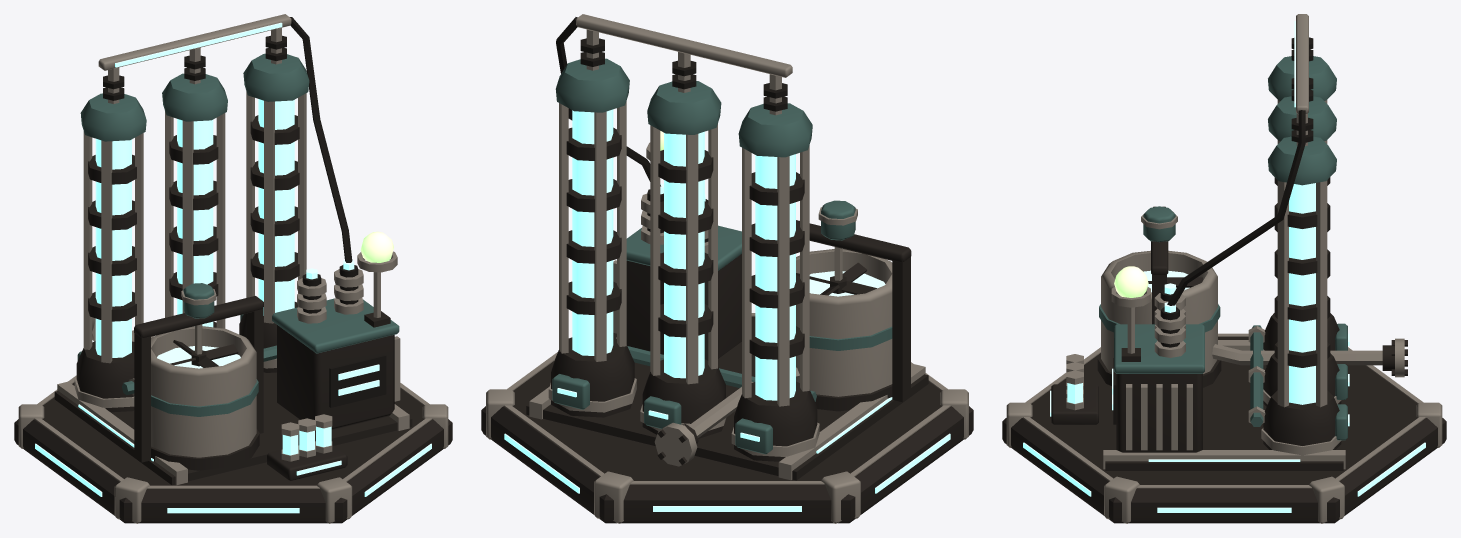
Rendered from fac_cells.glb.
The picture shows the model from 3 angles, left to right: view 1: azimuth 30°, elevation 25°; view 2: azimuth 150°, elevation 25°; view 3: azimuth 270°, elevation 25°; orthographic projection. The views are drawn at different scales.
Visible parts, largest first — view 1: body, base, lamp, spin; view 2: body, base, spin; view 3: body, base, lamp.
Boxes of the visible parts, box(x1,y1,x2,y2) form: body: box(54, 14, 412, 485); base: box(14, 330, 452, 523); lamp: box(357, 231, 397, 272); spin: box(170, 324, 238, 367); body: box(526, 14, 928, 480); base: box(481, 313, 973, 523); spin: box(796, 247, 876, 295); body: box(1050, 14, 1407, 470); base: box(1002, 333, 1446, 523); lamp: box(1111, 266, 1150, 307).
Size of the model in its own units: 1.8 by 1.95 by 2.05.
